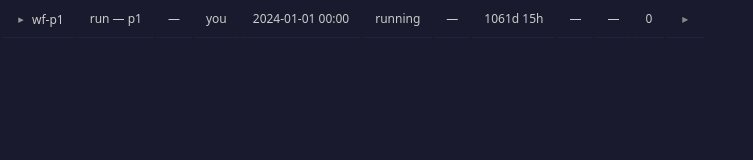
Test case: expanding a child renders grandchildren, one level per request
Step 1. Click the button named "Show child runs of run — p1" → (21, 20), box [14,14,28,25]
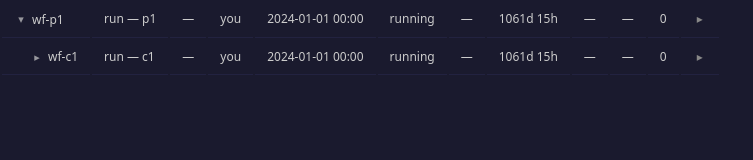
Expected: the text "wf-c1" is shown, [48,48,78,65]
Step 2. Click the button named "Show child runs of run — c1" → (37, 57), box [30,52,44,62]
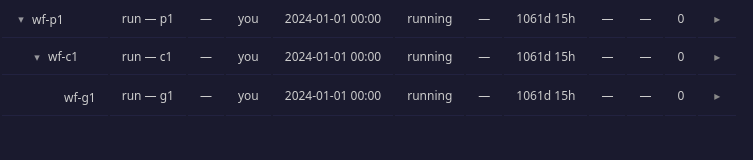
Expected: the text "wf-g1" is shown, [64,89,96,106]
